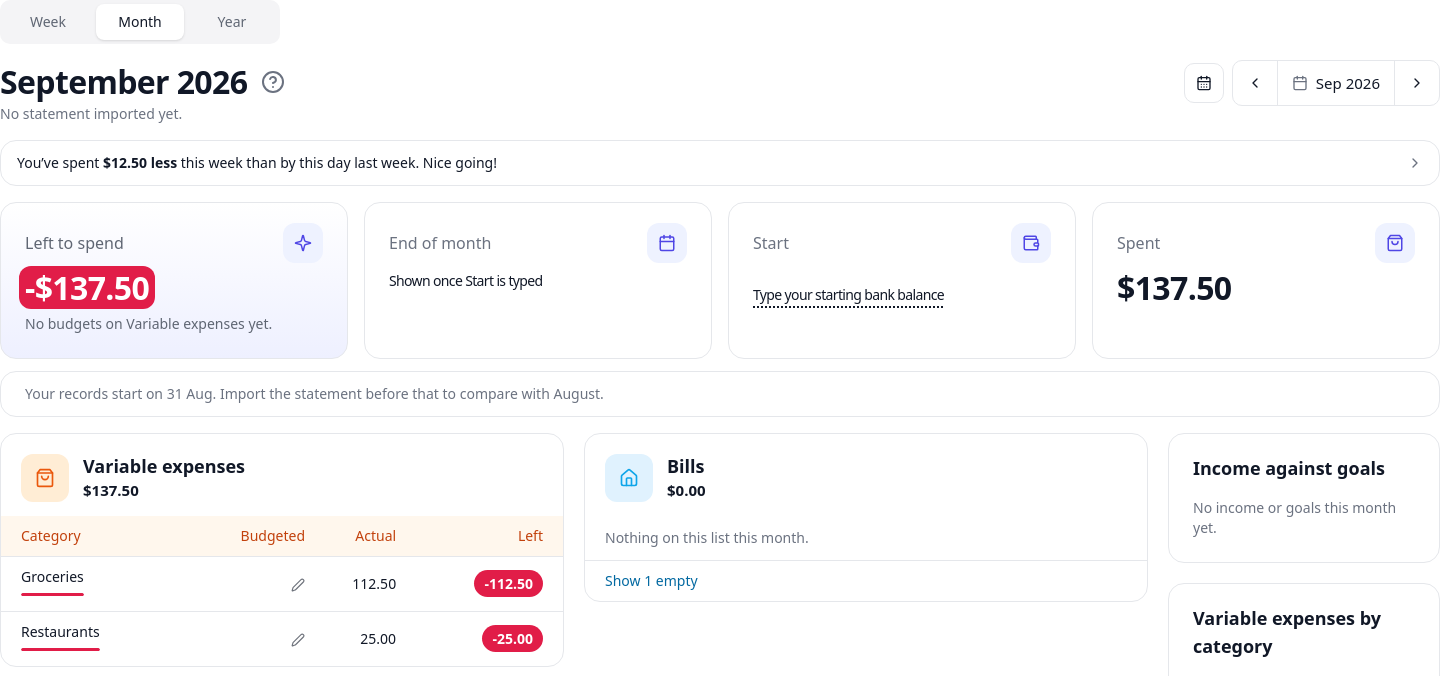
Scenario: Moving a charge from the Month › offers no "Always file" for a charge from a source that is gone, and moves only it
Check: the column heading "Groceries" is shown, box top-left (1, 556), bottom-right (182, 611)
Click the button "Groceries".
click(52, 581)  # box top-left (21, 567), bottom-right (84, 596)
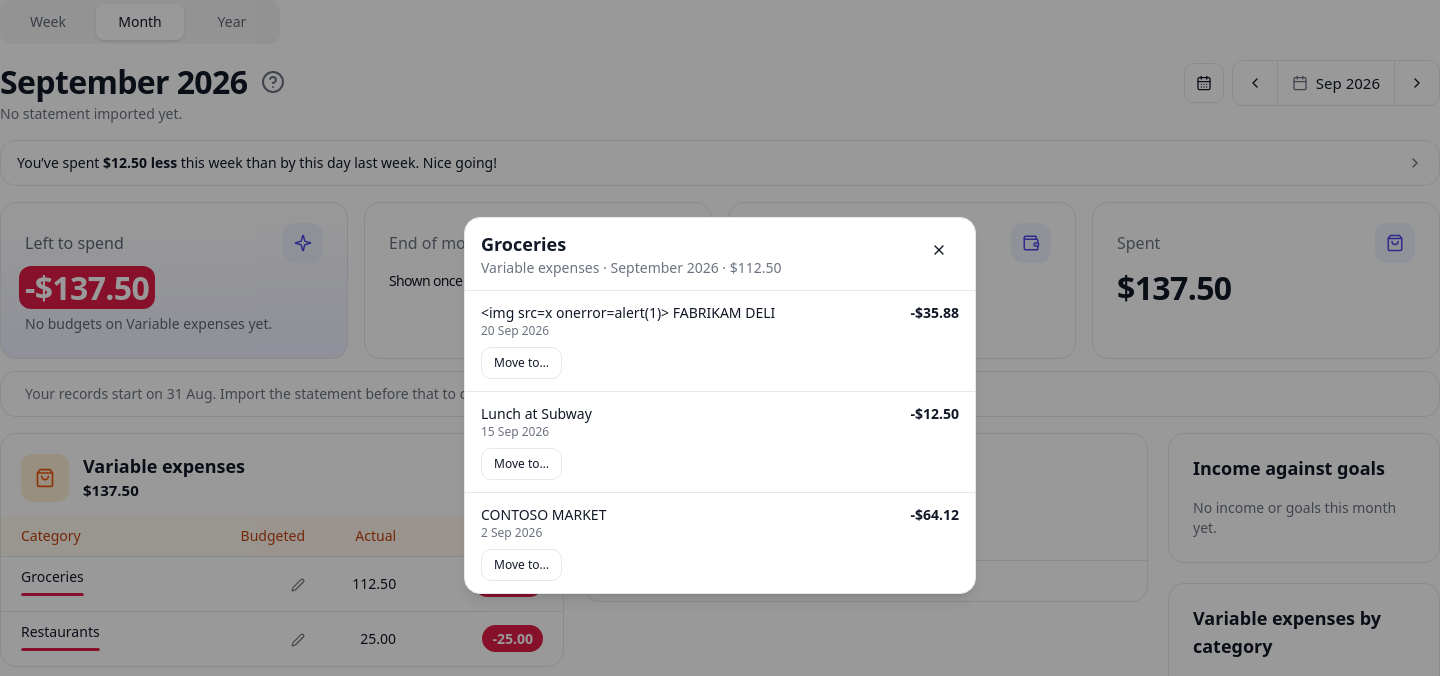
Click the button "Move to…" below "Lunch at Subway".
click(522, 464)  # box top-left (481, 448), bottom-right (562, 480)
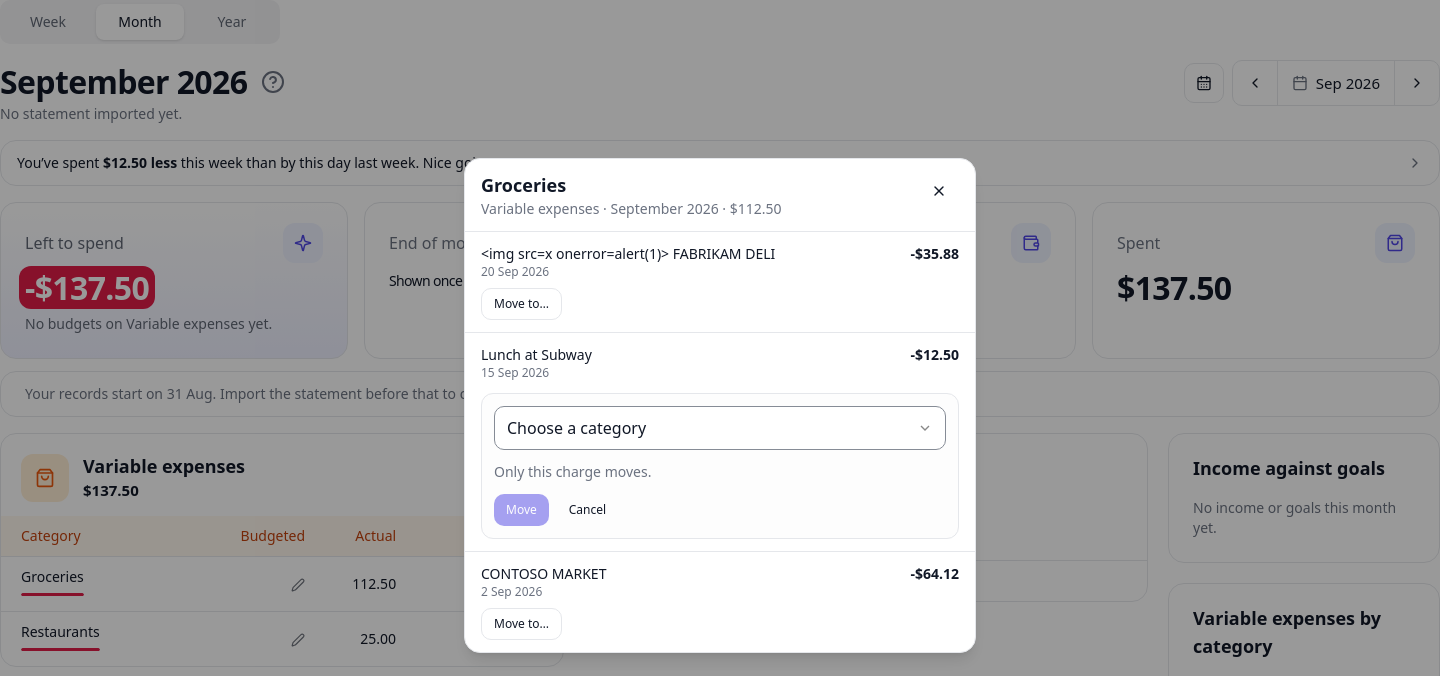
Check: the text "Only this charge moves." is shown, box top-left (494, 462), bottom-right (651, 480)
Select "Restaurants" in the dropdown named "Move to" at (720, 428), box top-left (494, 406), bottom-right (946, 450)
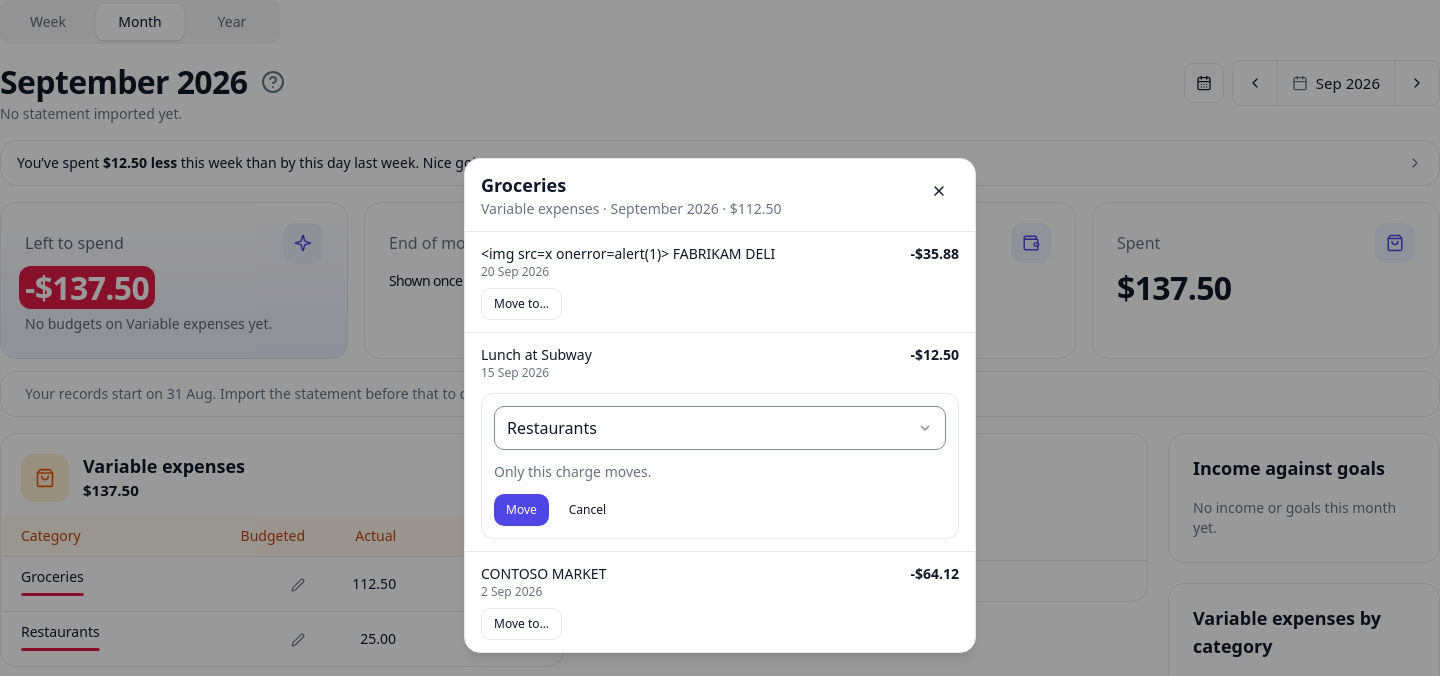
Click the button "Move".
click(521, 510)  # box top-left (494, 494), bottom-right (549, 526)
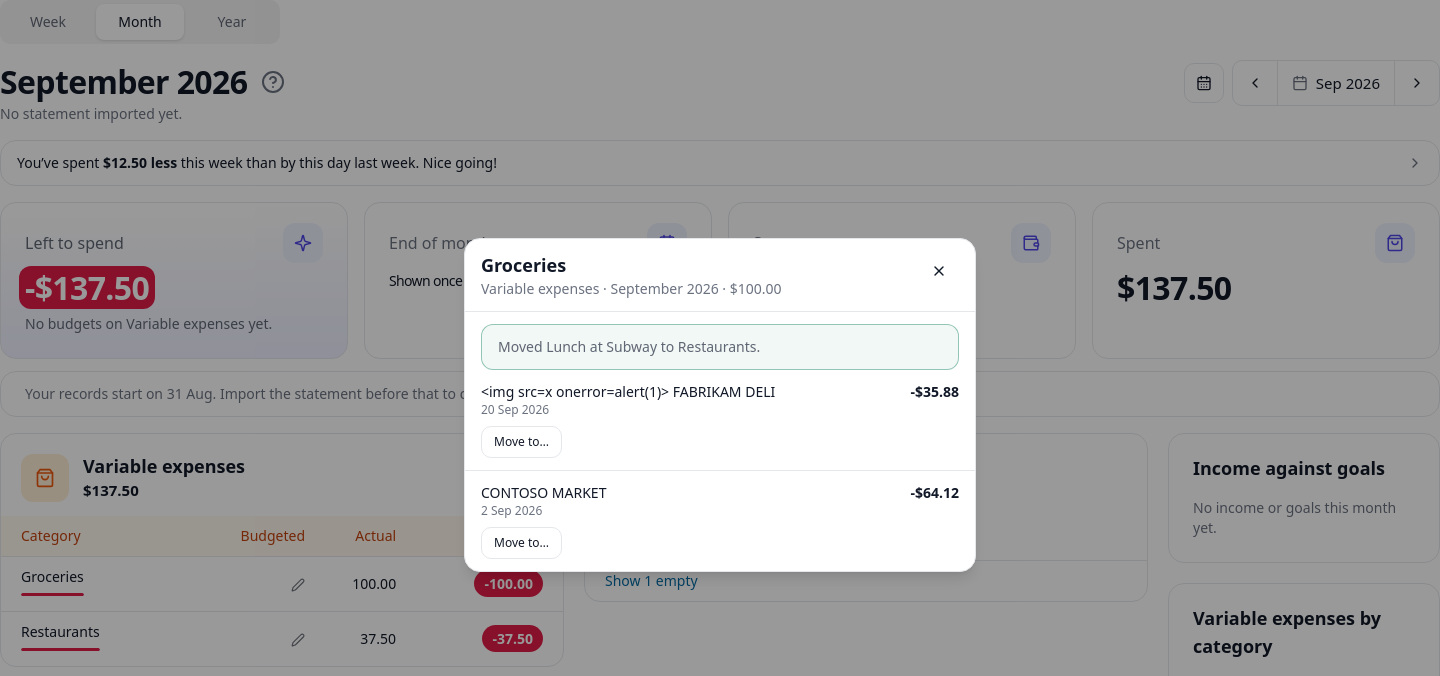
Check: the message "Moved Lunch at Subway to Restaurants." is shown, box top-left (481, 324), bottom-right (959, 370)
